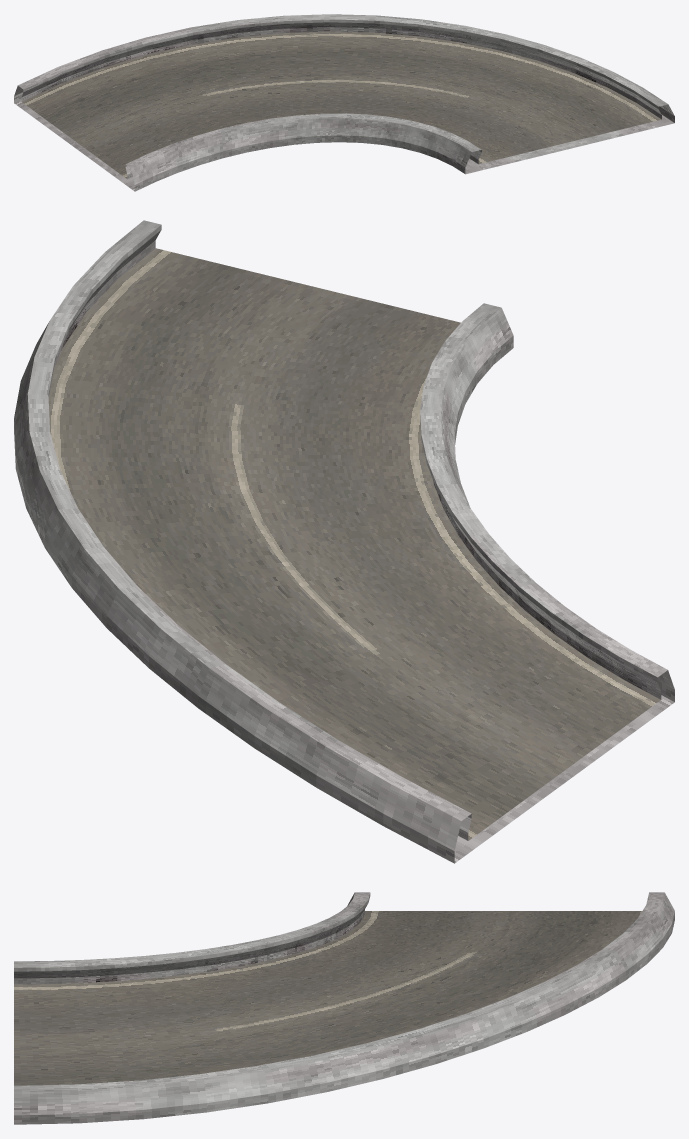
Rendered from road-Turn-Flat-BiSlopeDown-Down1-Left-Size2.glb.
3 views of the same model, one above another, from view 1: azimuth 30°, elevation 25°; view 2: azimuth 150°, elevation 25°; view 3: azimuth 270°, elevation 25° (orthographic). The views are drawn at different scales.
Parts seen in each view (by area): view 1: road-Turn-Flat-BiSlopeDown-Down1-Left-Size2; view 2: road-Turn-Flat-BiSlopeDown-Down1-Left-Size2; view 3: road-Turn-Flat-BiSlopeDown-Down1-Left-Size2.
Part boxes in pixels (left/top/right/bottom): road-Turn-Flat-BiSlopeDown-Down1-Left-Size2: left=14, top=14, right=674, bottom=191; road-Turn-Flat-BiSlopeDown-Down1-Left-Size2: left=14, top=220, right=674, bottom=863; road-Turn-Flat-BiSlopeDown-Down1-Left-Size2: left=14, top=892, right=674, bottom=1124.
Bounding box in the file's own units: 2 × 0.3441 × 2.
Materials: 2 (2 with a texture image).
